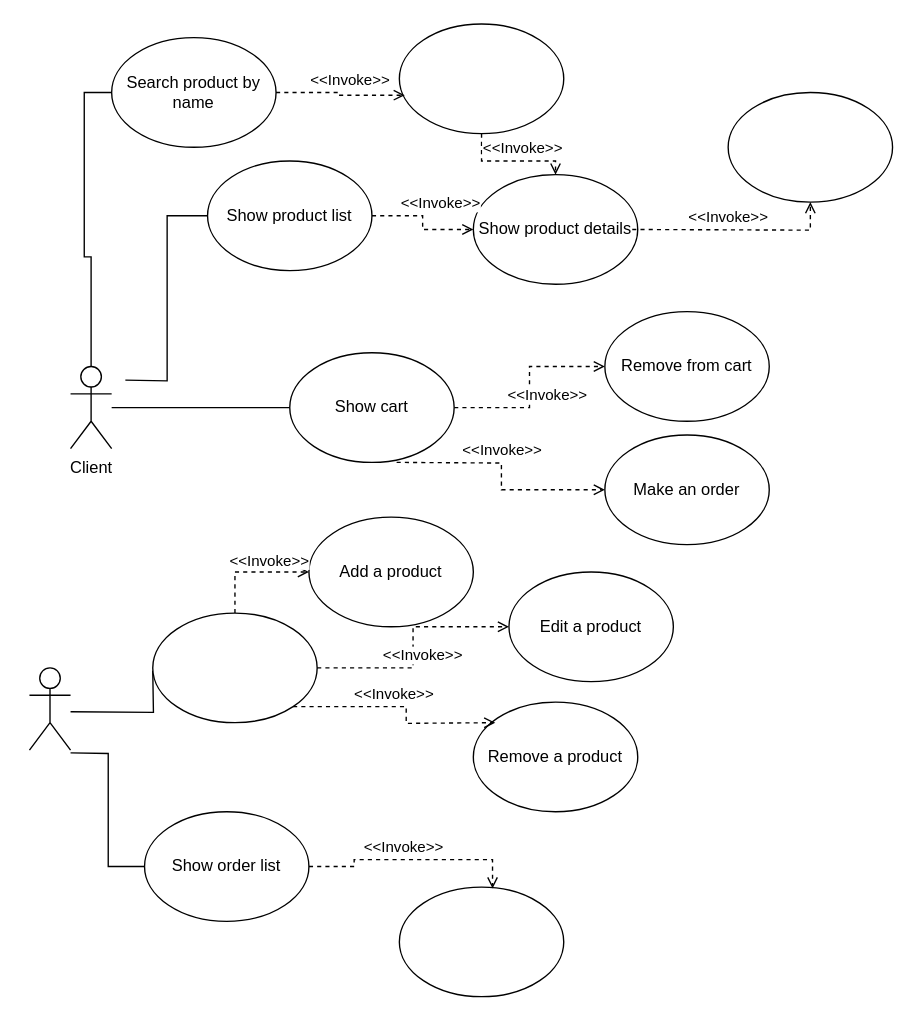
Image size: 917x1021. Some labels were removed from this diagram. The centre of each missing label's shape, as x and y in pixels:
Add to cart: the point at 810,146
Change order status: the point at 481,941
Show found products: the point at 481,78
Show offered prodcuts list: the point at 234,667
Worker: the point at 49,708
